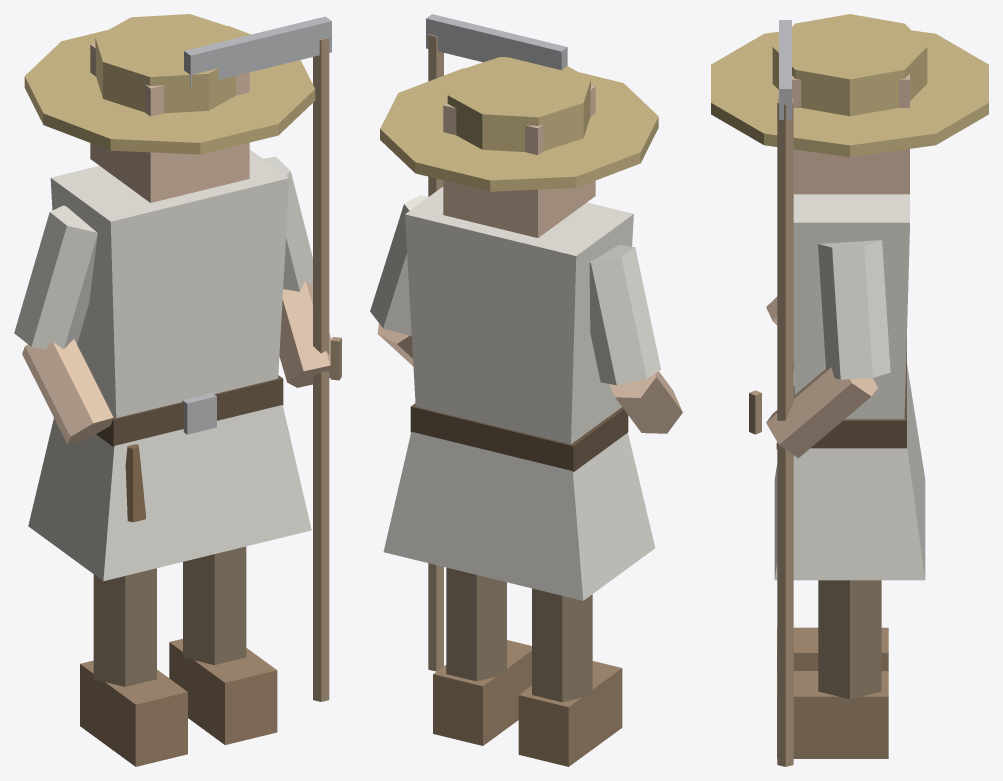
The model's file is char_farmer.glb.
3 views of the same model, side by side, from view 1: azimuth 30°, elevation 25°; view 2: azimuth 150°, elevation 25°; view 3: azimuth 270°, elevation 25° (orthographic). The views are drawn at different scales.
Visible parts, largest first — view 1: char_farmer; view 2: char_farmer; view 3: char_farmer.
Part boxes in pixels (<box>): char_farmer: <box>14,14,341,766</box>; char_farmer: <box>370,14,682,766</box>; char_farmer: <box>711,14,988,766</box>.
Size of the model in its own units: 0.7764 by 1.79 by 0.6467.
